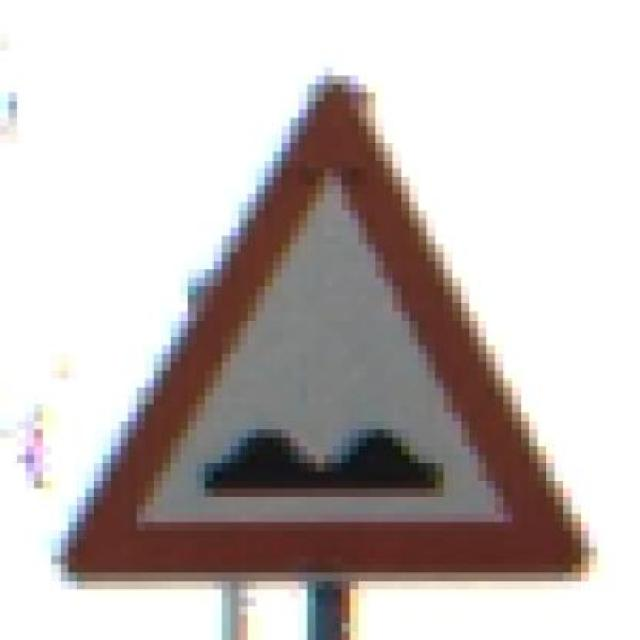Uneven Road: (60, 67, 606, 581)
